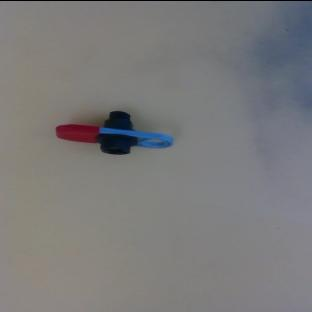part_1_good: (55, 109, 173, 155)
